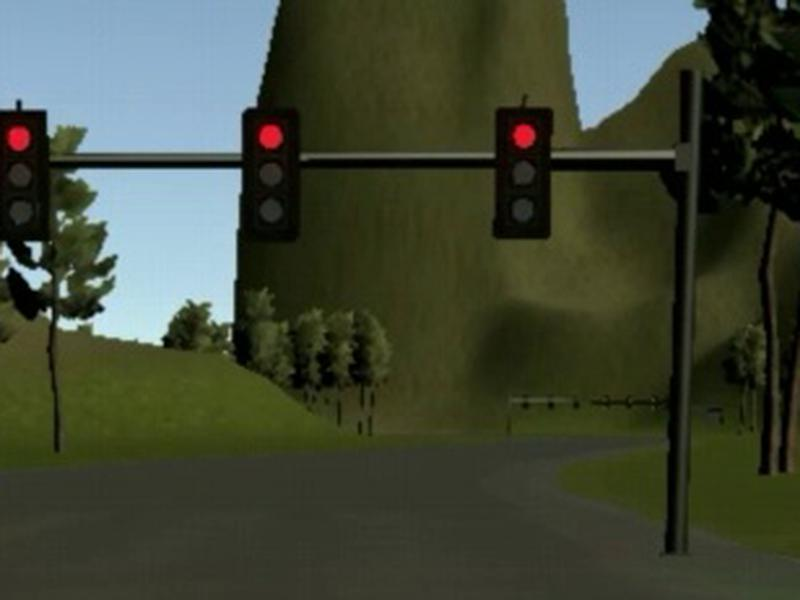Red: (492, 107, 553, 240), (242, 108, 301, 244), (1, 110, 48, 242)
